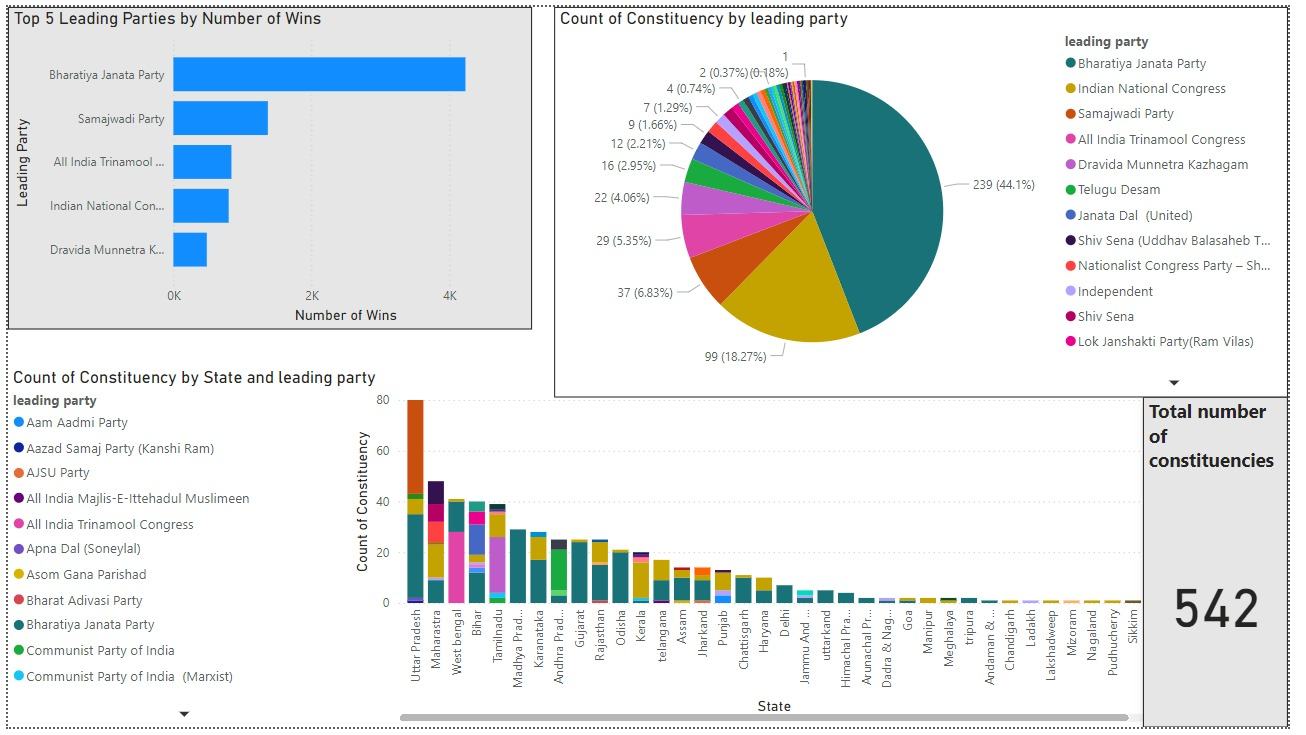

This screenshot's page, from the dashboard's own definition file:
{"tool":"powerbi","page":{"name":"Page 1","canvas":[1280,720],"ordinal":0},"visuals":[{"type":"clusteredBarChart","title":"Top 5 Leading Parties by Number of Wins","fields":{"Category":["Sheet1.leading party"],"Y":["Sum(Sheet1.Won in)"]},"box":[0,0,523.8,322.5],"z":0},{"type":"columnChart","fields":{"Category":["Sheet1.State"],"Y":["CountNonNull(Sheet1.Constituency)"],"Series":["Sheet1.leading party"]},"box":[0,360,1146.2,360],"z":1000},{"type":"card","title":"Total number of constituencies","fields":{"Values":["CountNonNull(Sheet1.Constituency)"]},"box":[1135,390,145,330],"z":1001},{"type":"pieChart","title":"Count of Constituency by leading party","fields":{"Y":["CountNonNull(Sheet1.Constituency)"],"Category":["Sheet1.leading party"]},"box":[546.2,0,733.8,390],"z":1002}]}

Visuals, with their boxes in screenshot pixels (x1, y1, x2, y2), scaled from the page's 1280x720 canvas onto the 1306x735 screenshot:
"Top 5 Leading Parties by Number of Wins" clusteredBarChart: [x1=0, y1=0, x2=534, y2=329]
columnChart - Sheet1.State x CountNonNull(Sheet1.Constituency): [x1=0, y1=368, x2=1169, y2=734]
"Total number of constituencies" card: [x1=1158, y1=398, x2=1305, y2=734]
"Count of Constituency by leading party" pieChart: [x1=557, y1=0, x2=1305, y2=398]
